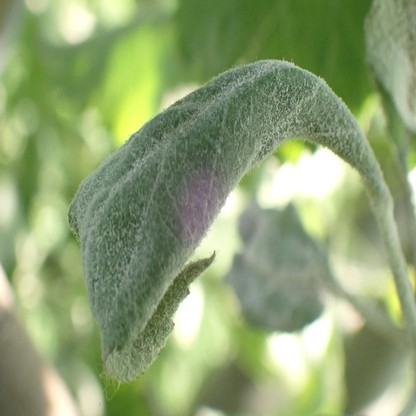powdery_mildew: (66, 60, 377, 384), (223, 202, 327, 326), (365, 0, 416, 124)
